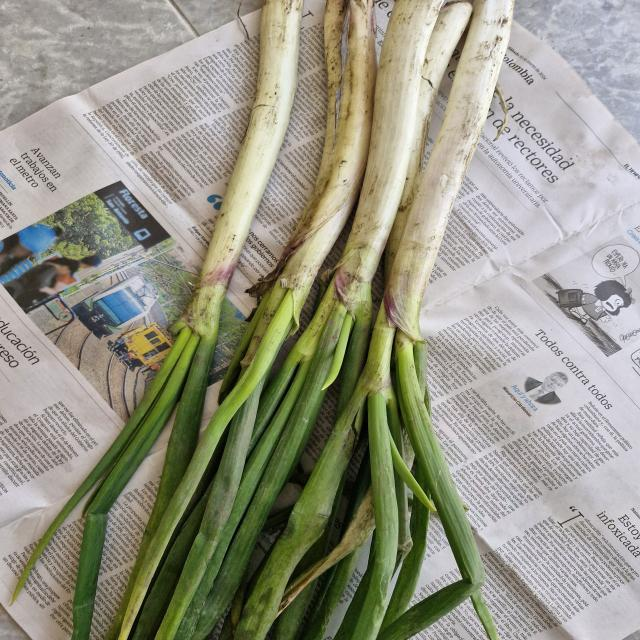green_onion: (22, 0, 307, 640), (309, 0, 503, 640)
